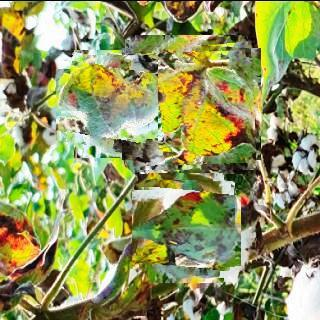blight: (126, 38, 258, 169), (60, 54, 158, 152), (137, 179, 235, 275)
